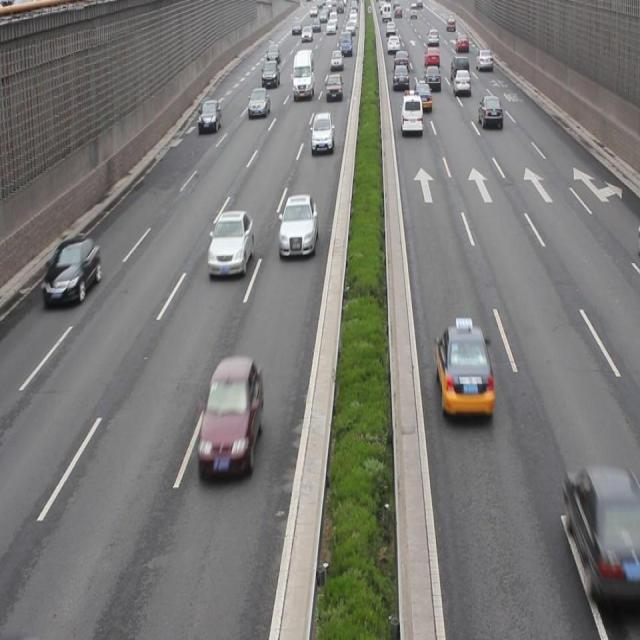car: (563, 466, 640, 598), (199, 358, 262, 475), (434, 315, 492, 420), (42, 235, 102, 305), (208, 210, 254, 276), (278, 194, 318, 258), (311, 113, 334, 155), (478, 94, 501, 129), (198, 99, 222, 132)
truck: (399, 91, 423, 138)
